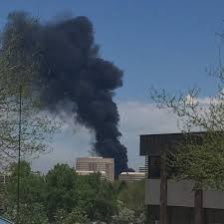smoke: (14, 14, 140, 179)
